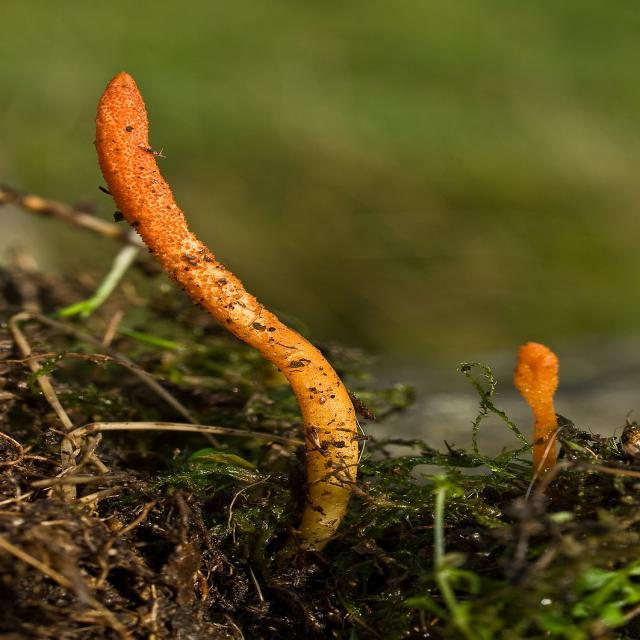Cordyceps militaris: (57, 71, 366, 554), (505, 342, 573, 470)
